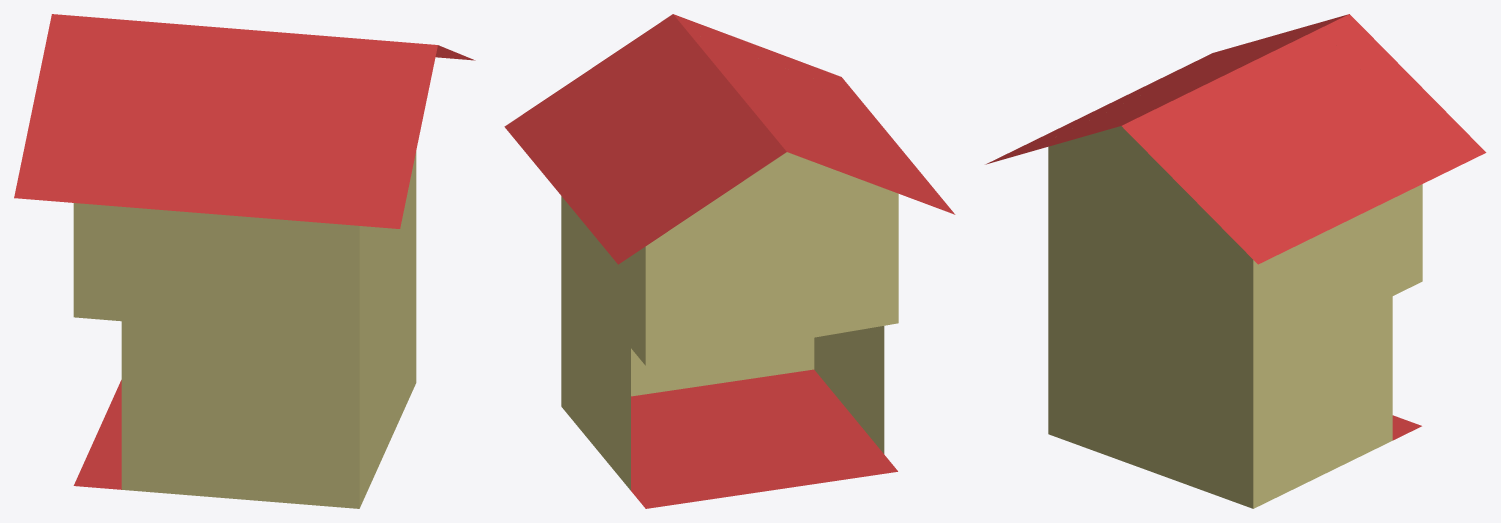
The picture shows the model from 3 angles, left to right: view 1: azimuth 30°, elevation 25°; view 2: azimuth 150°, elevation 25°; view 3: azimuth 270°, elevation 25°; orthographic projection. The views are drawn at different scales.
Parts seen in each view (by area): view 1: group_5, group_3, group_4, group_6; view 2: group_5, group_3, group_6, group_4; view 3: group_5, group_3, group_4.
Part boxes in pixels (left/top/right/bottom): group_5: left=73, top=151, right=416, bottom=508; group_3: left=14, top=14, right=471, bottom=228; group_4: left=15, top=41, right=475, bottom=228; group_6: left=73, top=380, right=121, bottom=489; group_5: left=561, top=152, right=898, bottom=490; group_3: left=504, top=14, right=954, bottom=261; group_6: left=631, top=369, right=897, bottom=508; group_4: left=505, top=14, right=955, bottom=264; group_5: left=1048, top=126, right=1422, bottom=508; group_3: left=1049, top=14, right=1452, bottom=264; group_4: left=985, top=14, right=1486, bottom=263.
Size of the model in its own units: 16.57 by 16.61 by 13.15.
